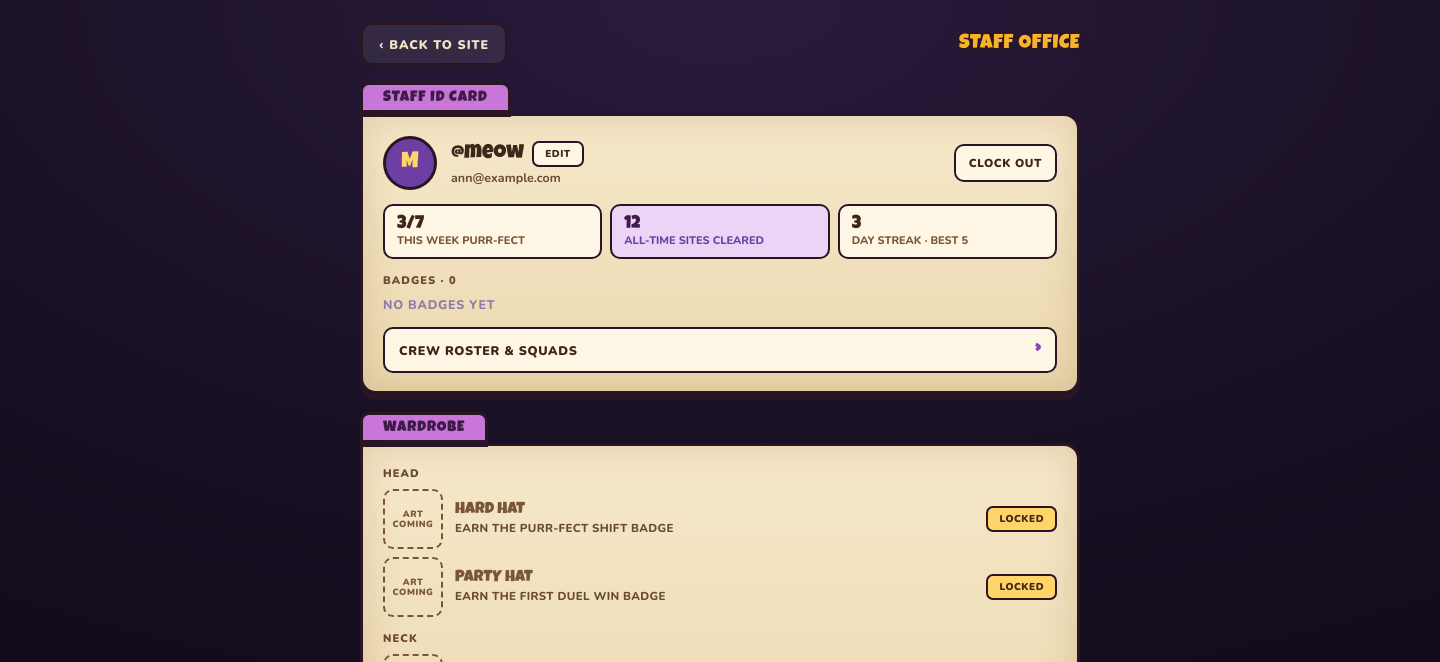
Test case: Staff Office, signed in › shows a rejected handle without leaving edit mode
The image size is (1440, 662).
Click the button "EDIT".
click(558, 154)  # box left=532, top=140, right=584, bottom=166
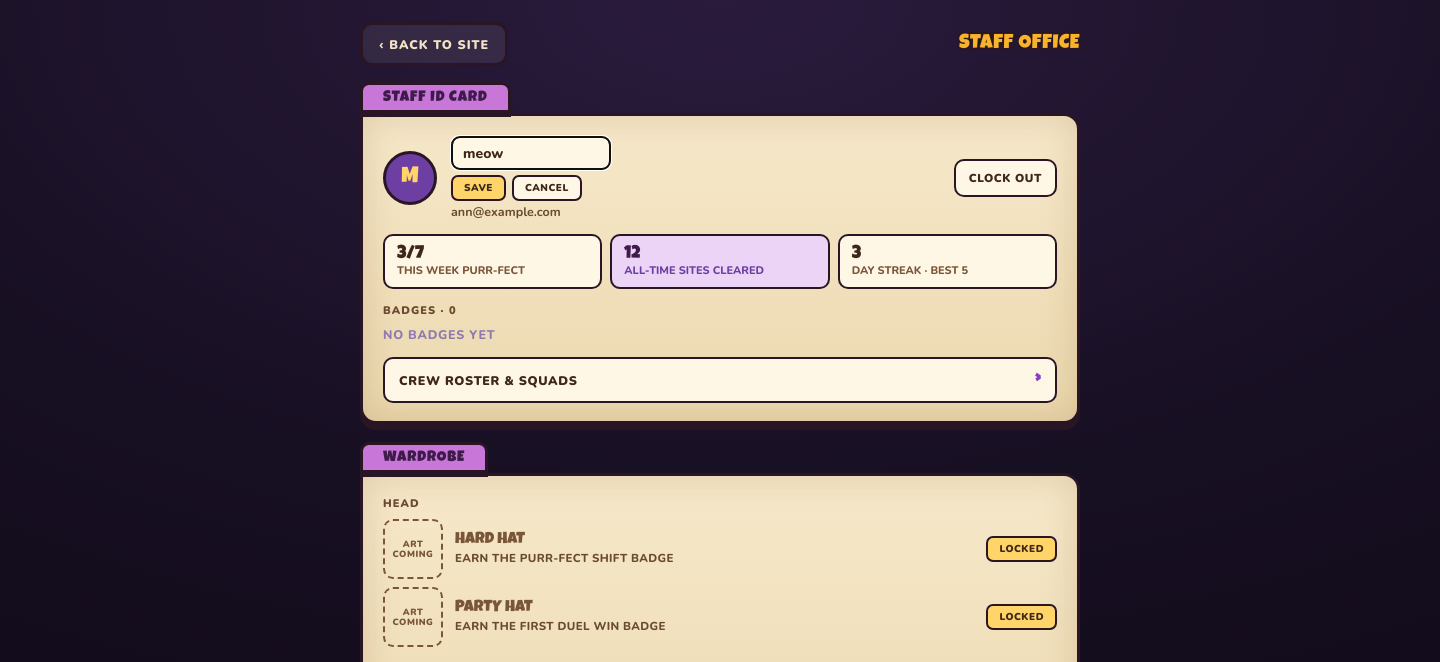
Click the button "SAVE".
click(478, 188)  # box left=451, top=175, right=506, bottom=201
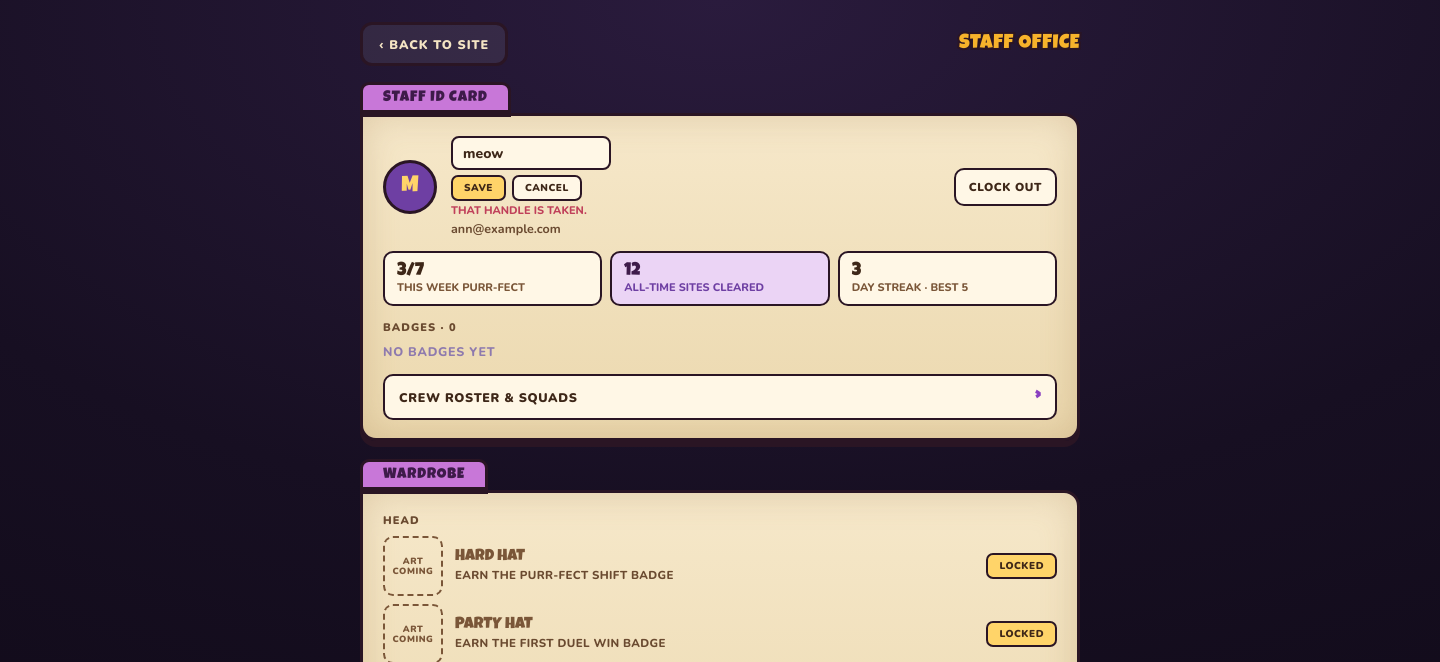
Expected: the button "CANCEL" is shown, left=512, top=175, right=582, bottom=201
Expected: the text "THAT HANDLE IS TAKEN." is shown, left=451, top=203, right=587, bottom=218
